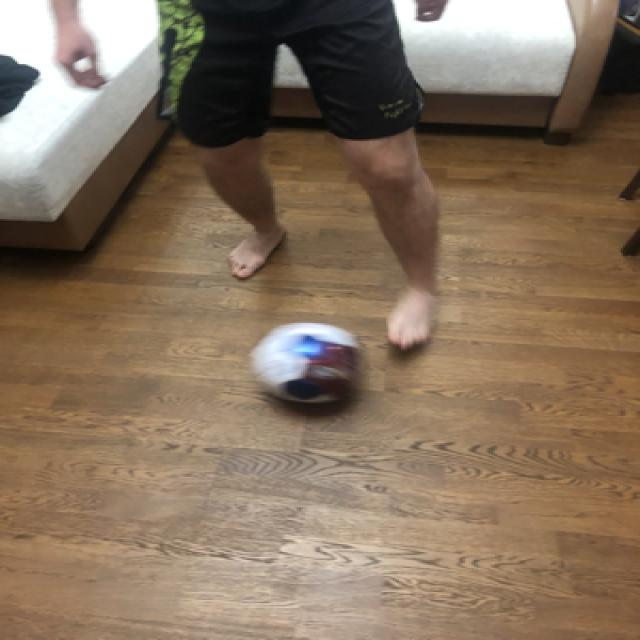soccer_ball: (243, 318, 365, 406)
